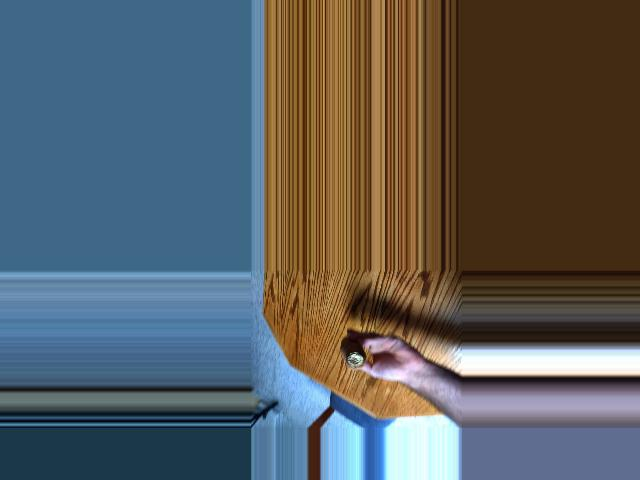sweet_potato: (336, 335, 374, 374)
